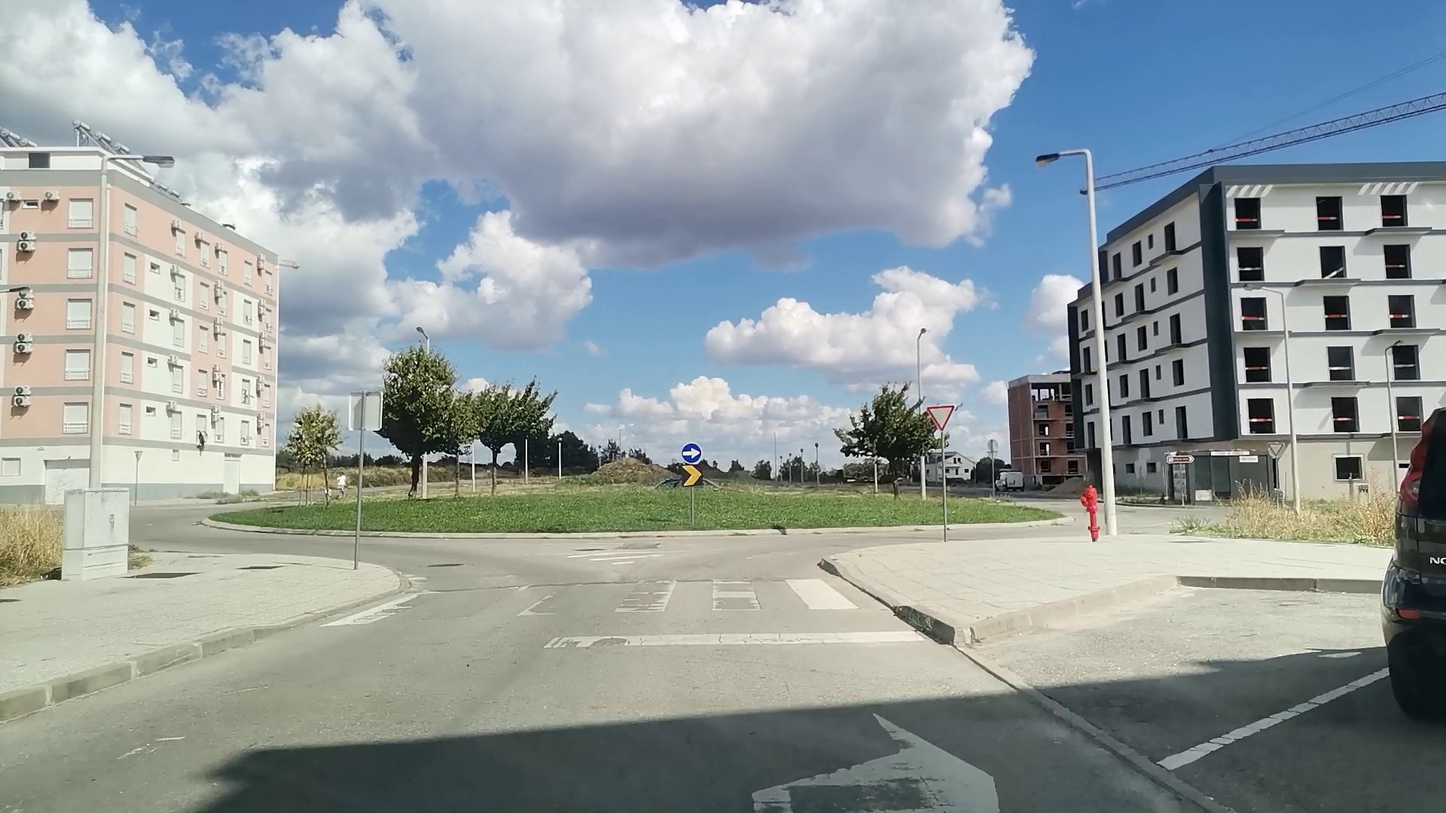Stairs: (325, 576, 860, 627)
